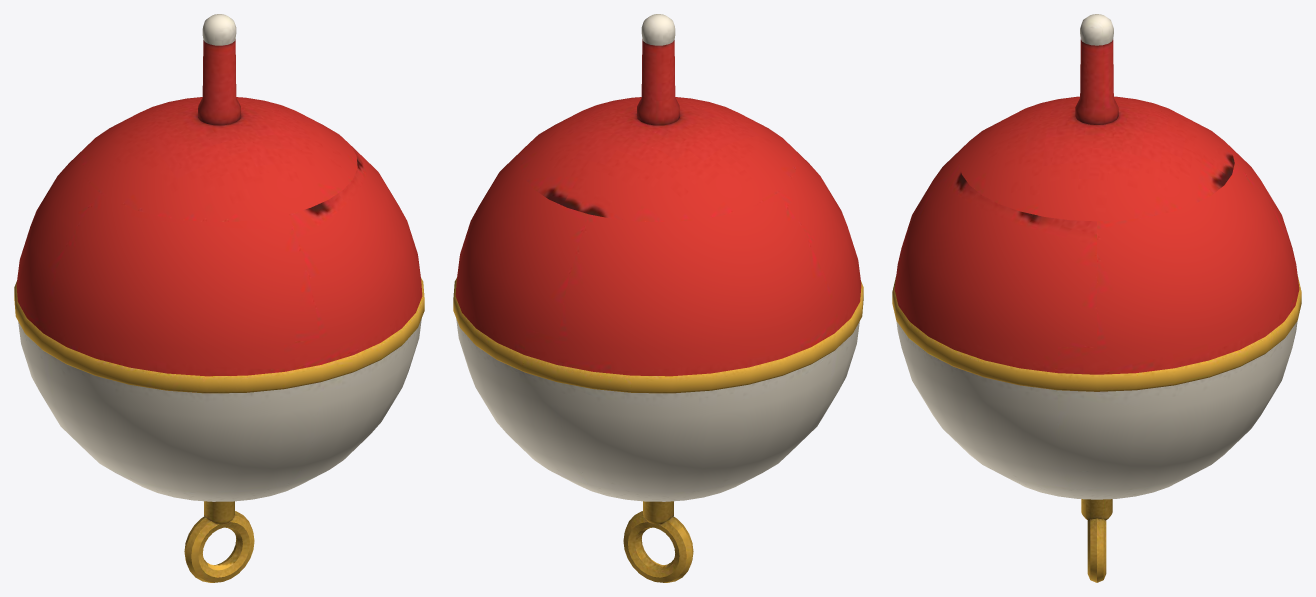
3 renders of one model, left to right at view 1: azimuth 30°, elevation 25°; view 2: azimuth 150°, elevation 25°; view 3: azimuth 270°, elevation 25°, orthographic.
Parts seen in each view (by area): view 1: Float_Red_Gloss, Float_Cream_Gloss, Float_Polished_Brass; view 2: Float_Red_Gloss, Float_Cream_Gloss, Float_Polished_Brass; view 3: Float_Red_Gloss, Float_Cream_Gloss, Float_Polished_Brass.
Part boxes in pixels (box(x1,y1,x2,y2)): Float_Red_Gloss: box(16, 39, 422, 376); Float_Cream_Gloss: box(18, 14, 421, 501); Float_Polished_Brass: box(14, 278, 424, 582); Float_Red_Gloss: box(455, 39, 861, 376); Float_Cream_Gloss: box(456, 14, 859, 501); Float_Polished_Brass: box(453, 278, 863, 582); Float_Red_Gloss: box(894, 39, 1299, 374); Float_Cream_Gloss: box(896, 14, 1297, 499); Float_Polished_Brass: box(892, 276, 1301, 582).
Bounding box in the file's own units: 0.6057 × 0.92 × 0.6057.
Materials: 3 (3 with a texture image).
